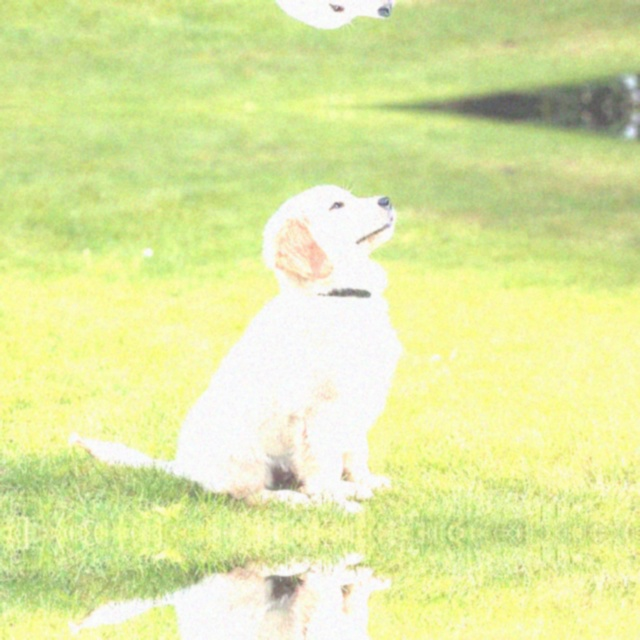dog: (175, 168, 432, 516), (175, 548, 432, 640), (175, 0, 432, 44)
